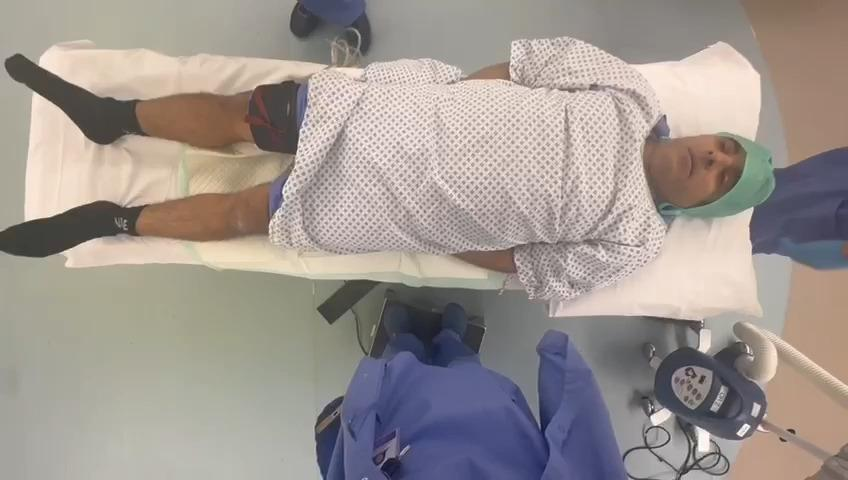bed: (0, 38, 772, 320)
patient: (4, 36, 787, 299)
tourniquet: (246, 79, 302, 151)
